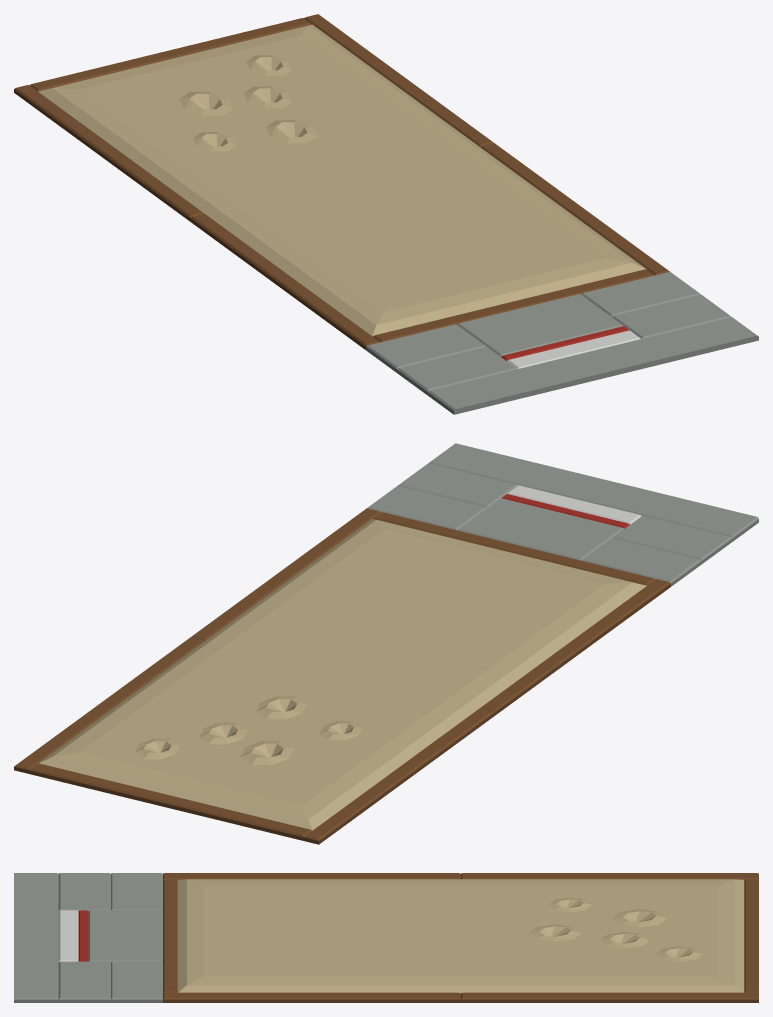
File: long-jump-pit-9d28e4.glb
3 views of the same model, one above another, from view 1: azimuth 30°, elevation 25°; view 2: azimuth 150°, elevation 25°; view 3: azimuth 270°, elevation 25° (orthographic). The views are drawn at different scales.
Visible parts, largest first — view 1: long-jump-pit-mesh; view 2: long-jump-pit-mesh; view 3: long-jump-pit-mesh.
Boxes of the visible parts, left/top/right/bottom form: long-jump-pit-mesh: left=14, top=14, right=758, bottom=414; long-jump-pit-mesh: left=14, top=443, right=758, bottom=844; long-jump-pit-mesh: left=14, top=873, right=758, bottom=1002.
Size of the model in its own units: 3 by 0.128 by 7.5.
